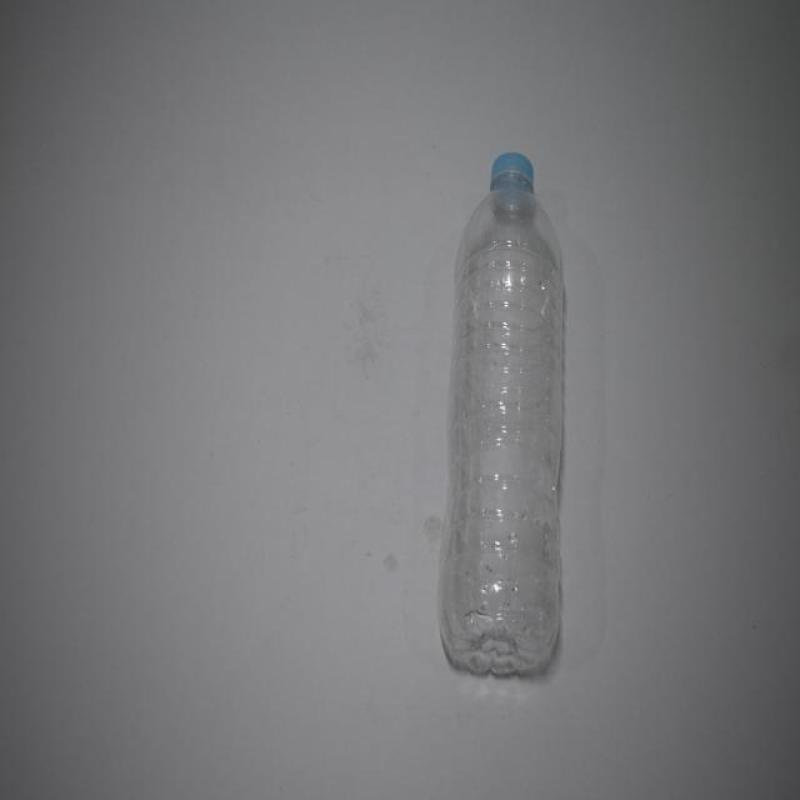botella: (437, 153, 565, 676)
